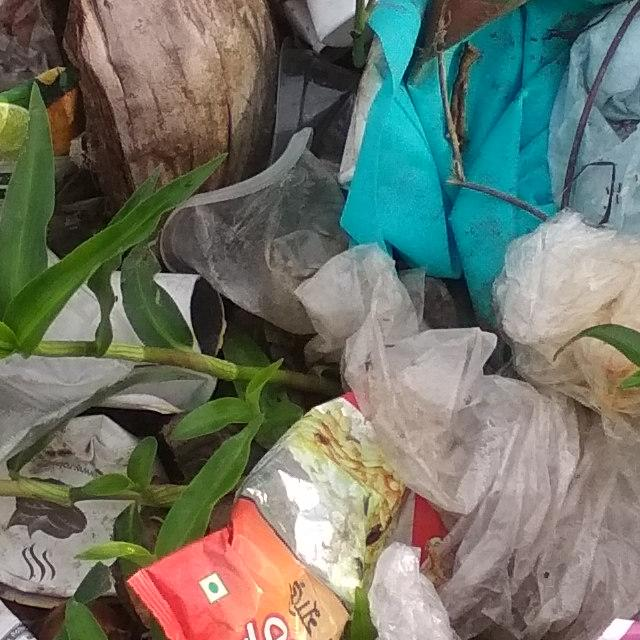plastic: (294, 232, 640, 640), (94, 364, 465, 640), (0, 216, 162, 513)
